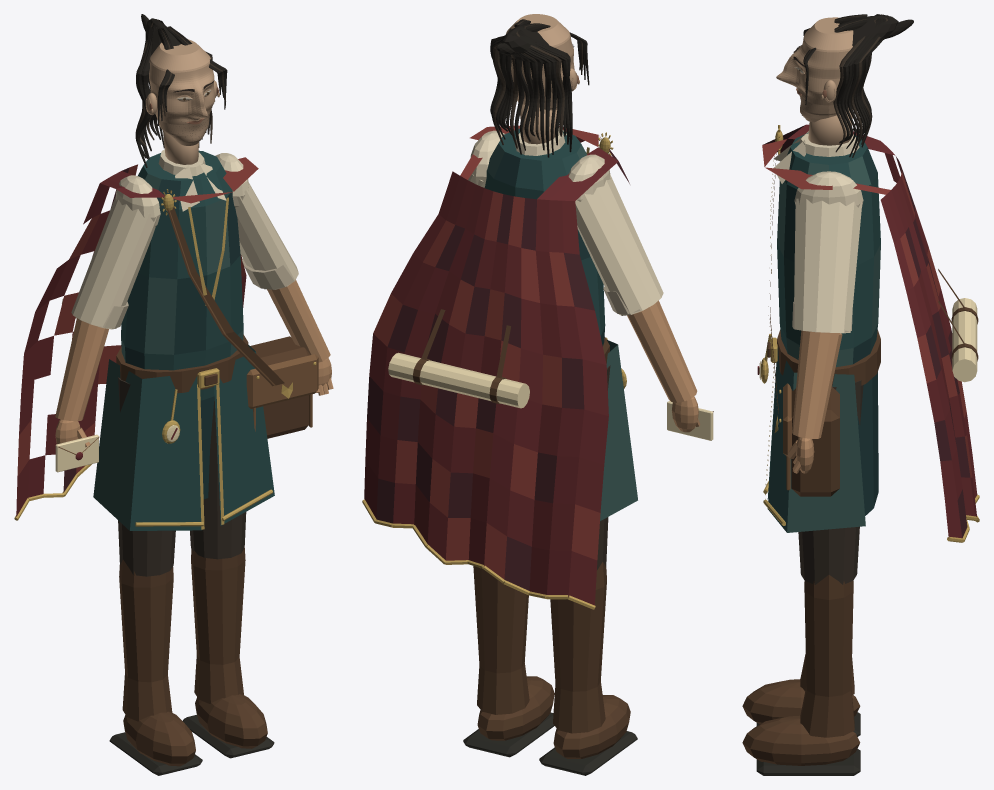
File: courier.glb
3 renders of one model, left to right at view 1: azimuth 30°, elevation 25°; view 2: azimuth 150°, elevation 25°; view 3: azimuth 270°, elevation 25°, orthographic. The views are drawn at different scales.
Parts seen in each view (by area): view 1: Waistcoat, Split_coat_R, Cloak_folds, Boot_shaft_R, Boot_shaft_L, Split_coat_L, Linen_sleeve_R, Face, Forearm_R, Linen_sleeve_L, Trouser_thigh_L, Boot_toe_R (+17 smaller); view 2: Cloak_folds, Boot_shaft_R, Boot_shaft_L, Linen_sleeve_R, Waistcoat, Split_coat_R, Map_roll, Forearm_R, Boot_toe_L, Boot_toe_R, Face, Boot_sole_R (+8 smaller); view 3: Cloak_folds, Waistcoat, Linen_sleeve_L, Boot_shaft_L, Split_coat_L, Face, Boot_toe_L, Forearm_L, Trouser_thigh_L, Messenger_satchel, Back_coat, Boot_toe_R (+13 smaller).
Boxes of the visible parts, x1,y1,x2,y2 form: Waistcoat: (121,150,243,400); Split_coat_R: (93,359,201,530); Cloak_folds: (16,157,258,516); Boot_shaft_R: (119,559,173,721); Boot_shaft_L: (191,545,245,703); Split_coat_L: (214,345,274,525); Linen_sleeve_R: (71,196,157,329); Face: (149,39,214,145); Forearm_R: (55,318,108,421); Linen_sleeve_L: (235,182,298,289); Trouser_thigh_L: (190,398,246,559); Boot_toe_R: (123,711,195,766); Cloak_folds: (364,125,629,605); Boot_shaft_R: (550,562,606,733); Boot_shaft_L: (473,566,529,714); Linen_sleeve_R: (575,174,663,315); Waistcoat: (484,128,605,346); Split_coat_R: (600,340,637,520); Map_roll: (388,352,529,408); Forearm_R: (627,300,697,402); Boot_toe_L: (477,676,554,740); Boot_toe_R: (553,695,630,758); Face: (506,14,574,110); Boot_sole_R: (539,731,637,775); Cloak_folds: (762,124,977,538); Waistcoat: (777,132,880,367); Linen_sleeve_L: (794,198,862,333); Boot_shaft_L: (800,575,854,737); Split_coat_L: (767,347,865,532); Face: (776,17,853,122); Boot_toe_L: (742,715,860,765); Forearm_L: (792,330,842,438); Trouser_thigh_L: (798,380,863,584); Messenger_satchel: (791,386,839,496); Back_coat: (857,372,878,515); Boot_toe_R: (742,679,860,724).
Size of the model in its own units: 0.7395 by 1.75 by 0.5149.
